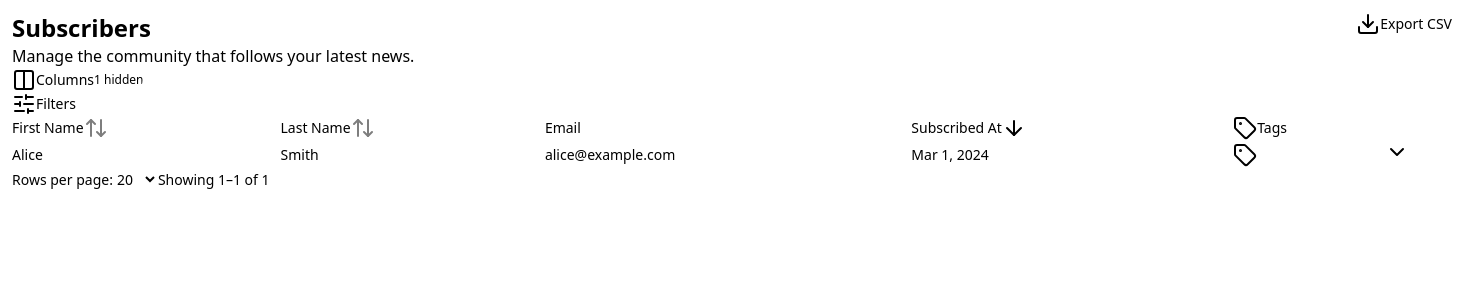
SubscribersTable › expandable row detail › clicking the expand button shows a detail panel for that subscriber
Click the button named "expand details".
click(1396, 152)  # box [1384, 140, 1408, 164]
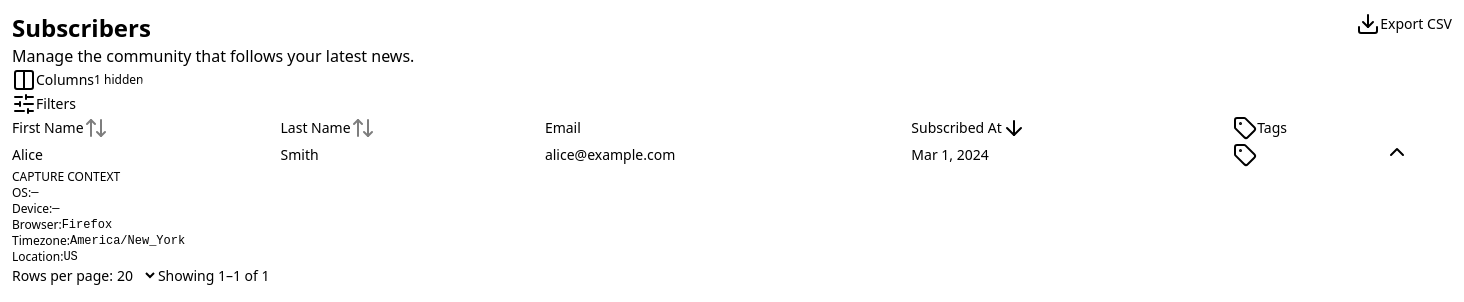
Now the text "America/New_York" is shown, box [70, 233, 185, 249]
Now the text "US" is shown, box [63, 249, 78, 265]
Now the text "Firefox" is shown, box [62, 217, 112, 233]
